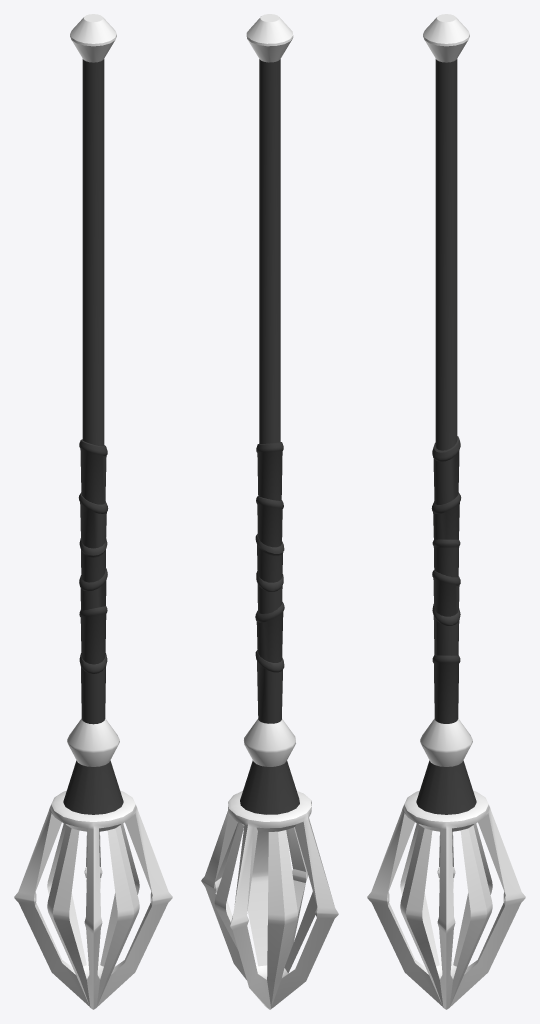
The model's file is mase.fbx.
3 views of the same model, side by side, from view 1: azimuth 90°, elevation 25°; view 2: azimuth 150°, elevation 25°; view 3: azimuth 270°, elevation 25° (orthographic).
Visible parts, largest first — view 1: mase; view 2: mase; view 3: mase.
Boxes of the visible parts, left/top/right/bottom form: mase: left=14, top=14, right=172, bottom=1009; mase: left=201, top=14, right=338, bottom=1009; mase: left=367, top=14, right=525, bottom=1009.
Size of the model in its own units: 21.09 by 145 by 21.09.
